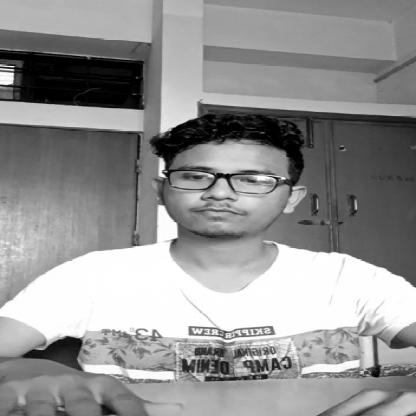Normal: (147, 118, 312, 233)
